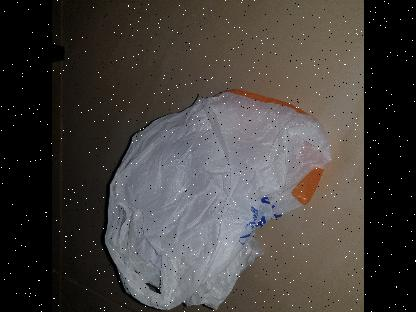Others: (94, 79, 340, 312)
